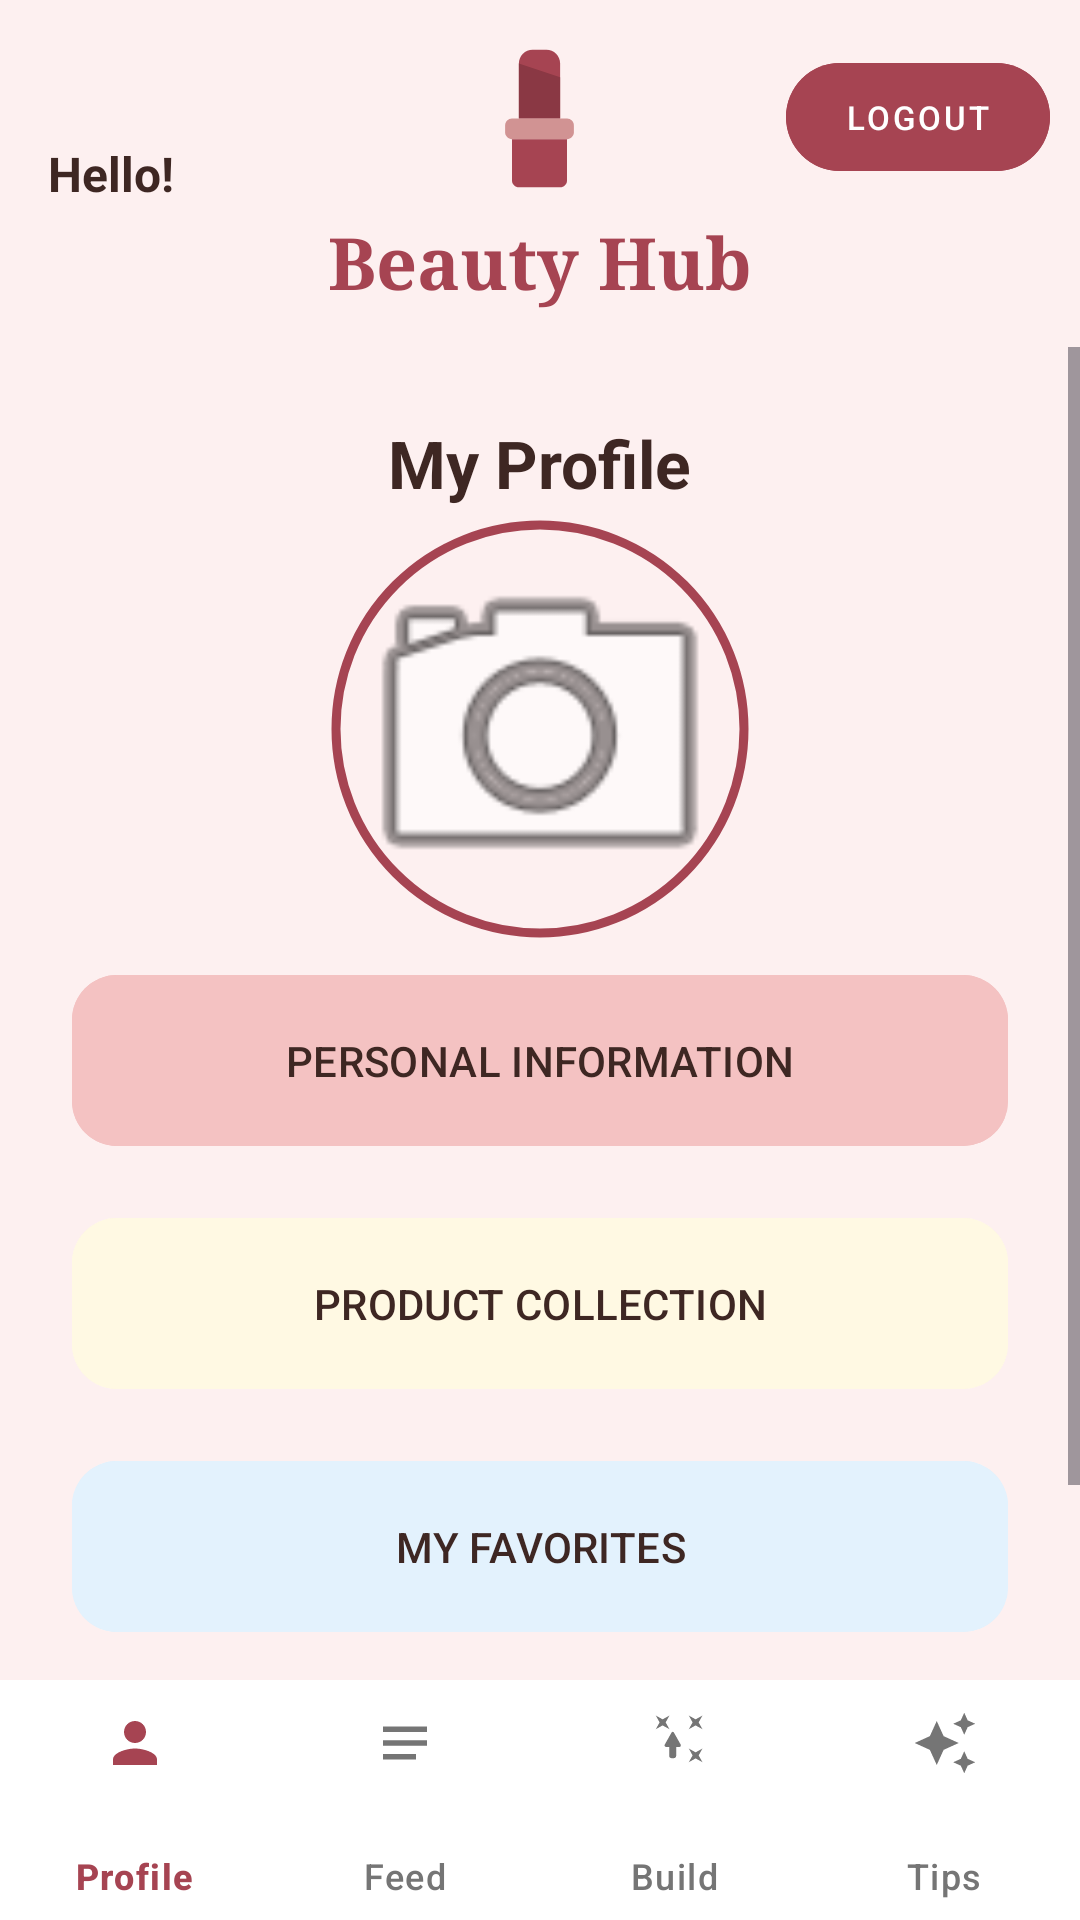

Named icons in this screenshot (1080w x 1920h) and their centers, point (x, y):
lipstick: point (539, 118)
